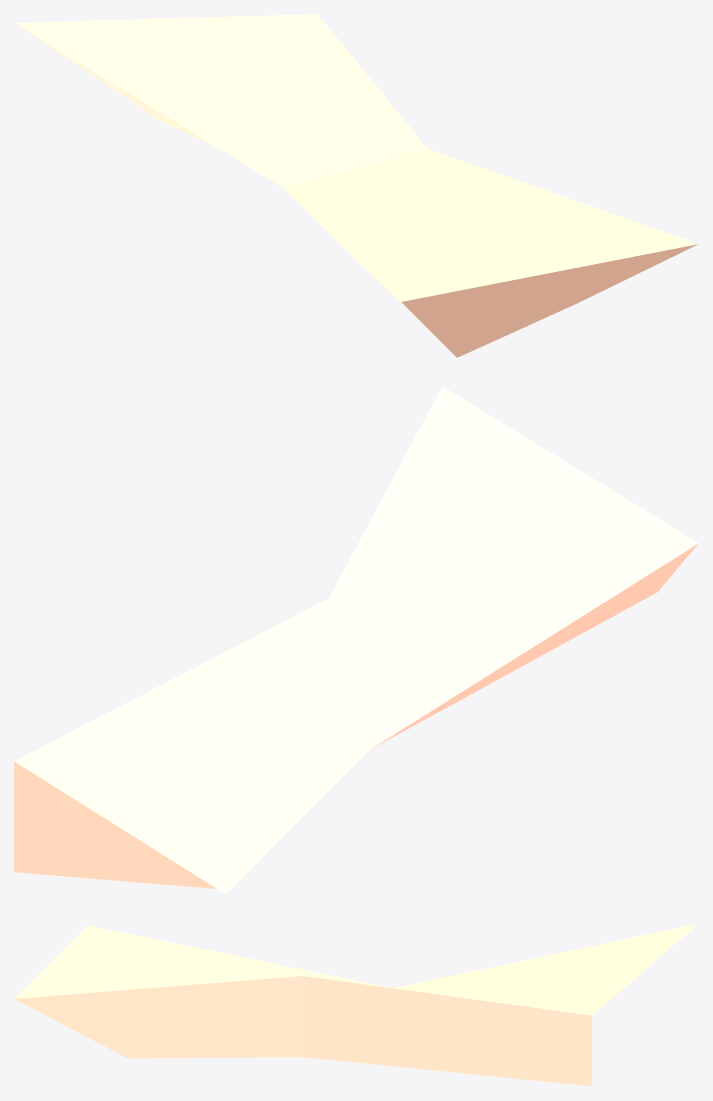
The model's file is tuna.fbx.
3 views of the same model, one above another, from view 1: azimuth 30°, elevation 25°; view 2: azimuth 150°, elevation 25°; view 3: azimuth 270°, elevation 25° (orthographic). The views are drawn at different scales.
Visible parts, largest first — view 1: 立方体; view 2: 立方体; view 3: 立方体.
Part boxes in pixels (<box>): 立方体: <box>14,14,698,357</box>; 立方体: <box>14,386,698,894</box>; 立方体: <box>14,923,698,1086</box>.
Bounding box in the file's own units: 93.6 × 41.59 × 272.
